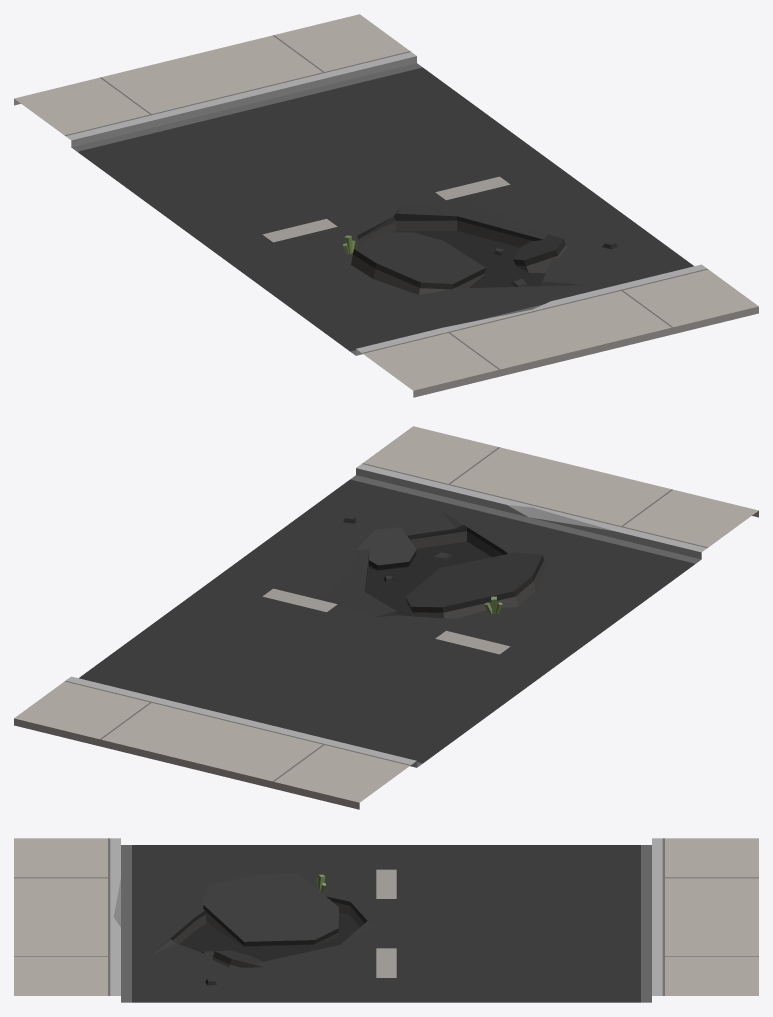
File: SA_Env_RoadStraight_Damaged_05.glb
3 renders of one model, top to bottom at view 1: azimuth 30°, elevation 25°; view 2: azimuth 150°, elevation 25°; view 3: azimuth 270°, elevation 25°, orthographic. The views are drawn at different scales.
Parts seen in each view (by area): view 1: SA_Env_RoadStraight_Damaged_05; view 2: SA_Env_RoadStraight_Damaged_05; view 3: SA_Env_RoadStraight_Damaged_05.
Boxes of the visible parts, bbox=[...] form: SA_Env_RoadStraight_Damaged_05: bbox=[14, 14, 758, 397]; SA_Env_RoadStraight_Damaged_05: bbox=[14, 426, 758, 809]; SA_Env_RoadStraight_Damaged_05: bbox=[14, 838, 758, 1002].
Bounding box in the file's own units: 4.2 × 0.4847 × 8.4.
1 material, 1 textured.
